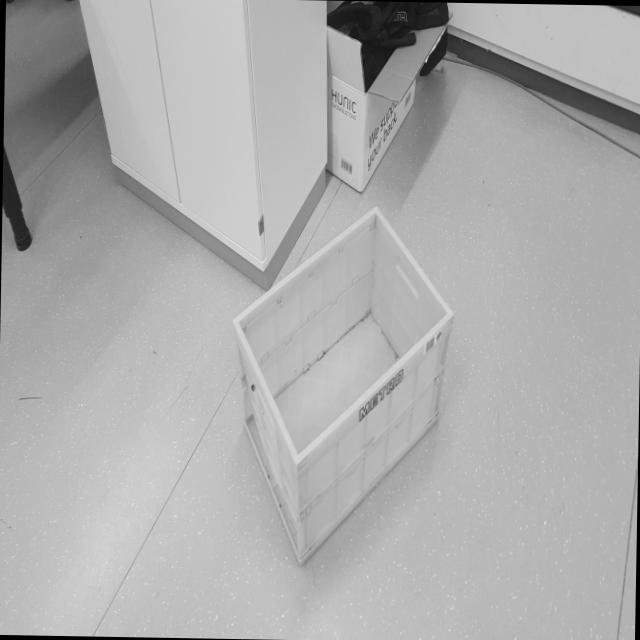box: (222, 190, 463, 575)
